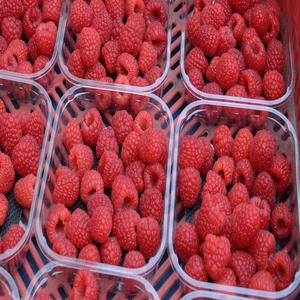raspb: (34, 1, 300, 274)
